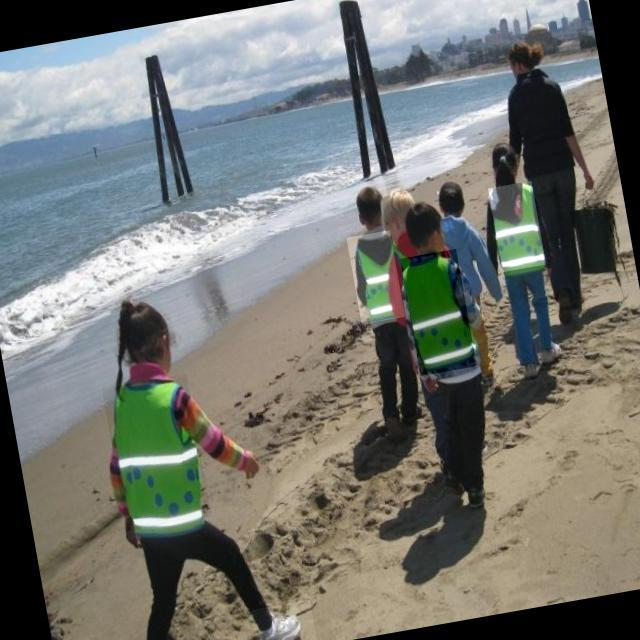Person: (79, 283, 328, 640), (507, 29, 610, 352), (393, 192, 478, 515), (337, 178, 392, 440), (482, 142, 525, 378)
Safety Boot: (250, 599, 317, 640)
Safety Vest: (102, 373, 212, 531), (400, 249, 478, 377), (347, 230, 406, 324), (488, 181, 547, 273)
bare-arms: (233, 443, 261, 489), (413, 375, 445, 402), (583, 166, 603, 207)
no-helmet: (113, 290, 172, 337), (402, 204, 445, 235), (508, 37, 550, 67), (348, 184, 384, 216), (380, 192, 413, 221), (492, 144, 522, 174), (435, 184, 470, 208)
